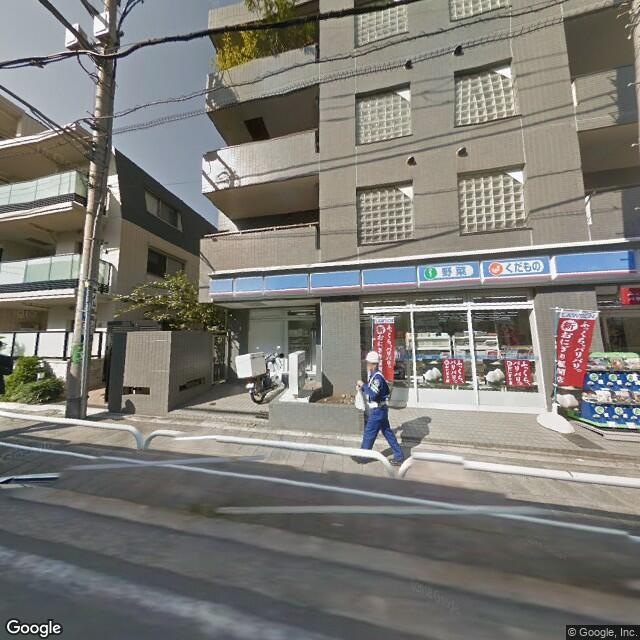lawson: (211, 242, 638, 299)
